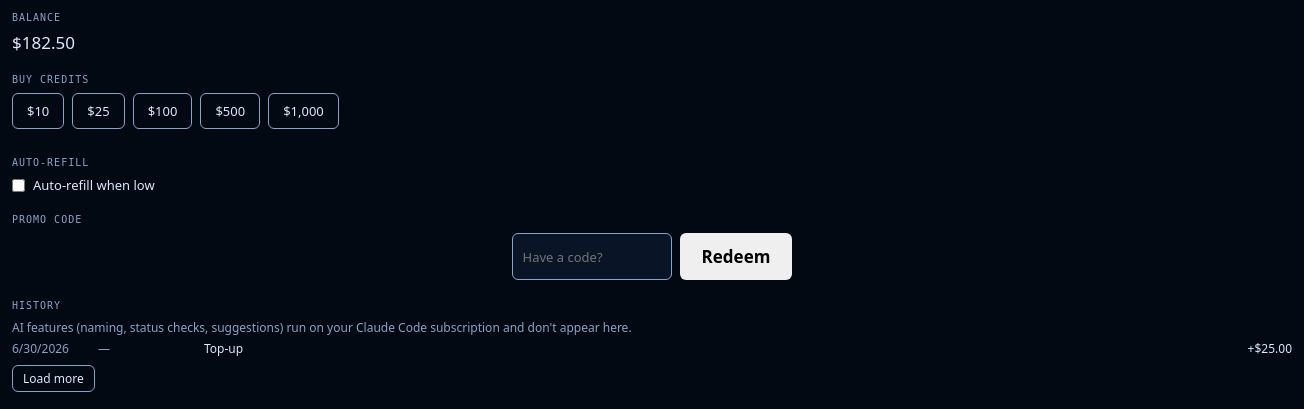
Test: history block › keeps loaded rows and shows error + Retry when Load more fails
This screenshot has width=1304, height=409.
What coordinates should you click on to do the following:
click the button "Load more"
I would click on:
 (53, 378)
Its box is [12,365,95,392].
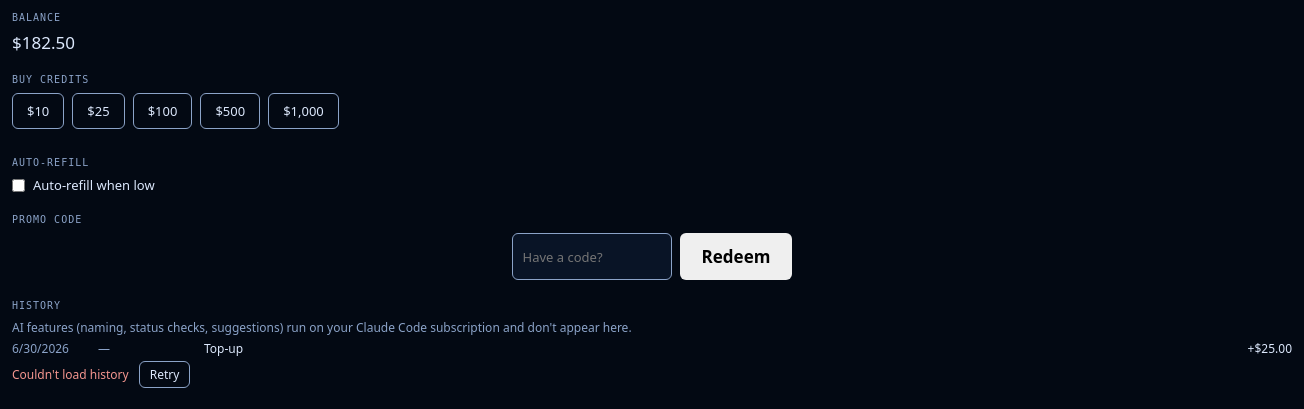
Expected: the text "Top-up" is shown, [204,340,243,357]
Expected: the text "Couldn't load history" is shown, [12,366,129,383]
What coordinates should you click on to do the following:
click the button with aria-label "Retry history"
I would click on:
 (164, 374)
Its box is [139,361,190,388].
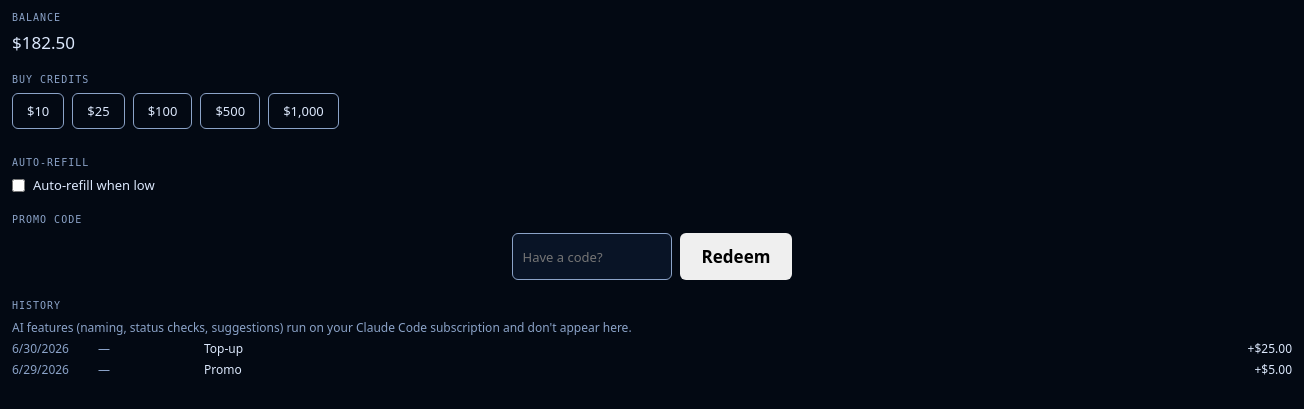
Expected: the text "Top-up" is shown, [204,340,243,357]
Expected: the text "Promo" is shown, [204,361,242,378]
